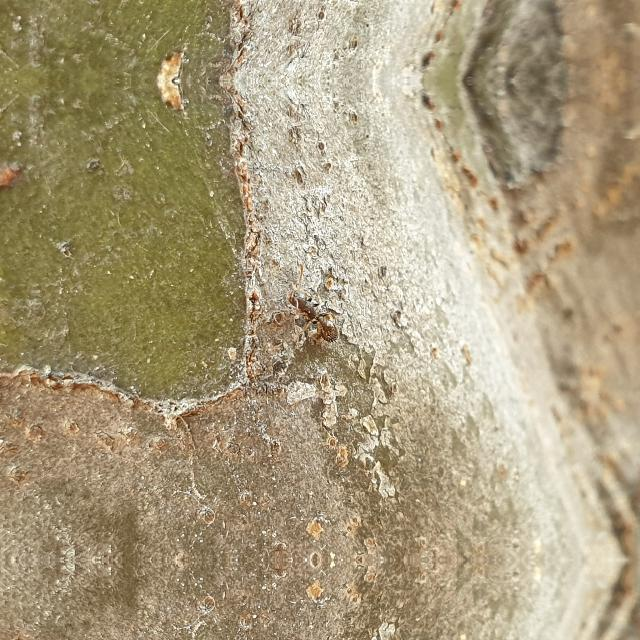Temnothorax: (275, 263, 349, 347)
